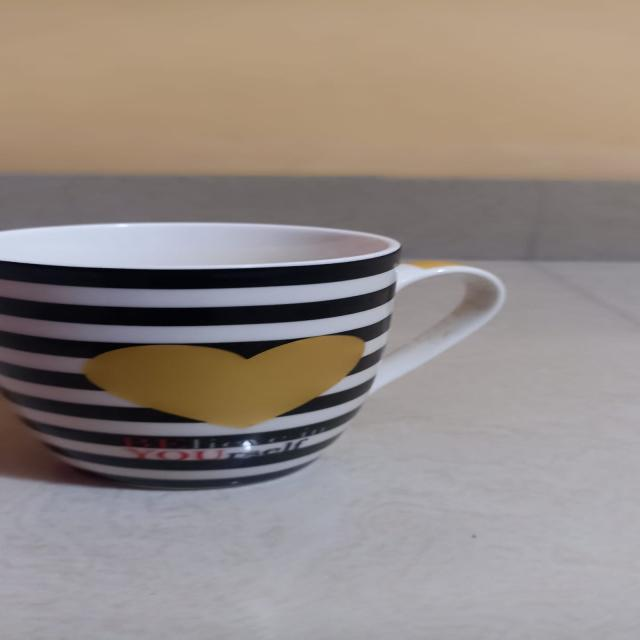cup: (0, 208, 502, 499)
